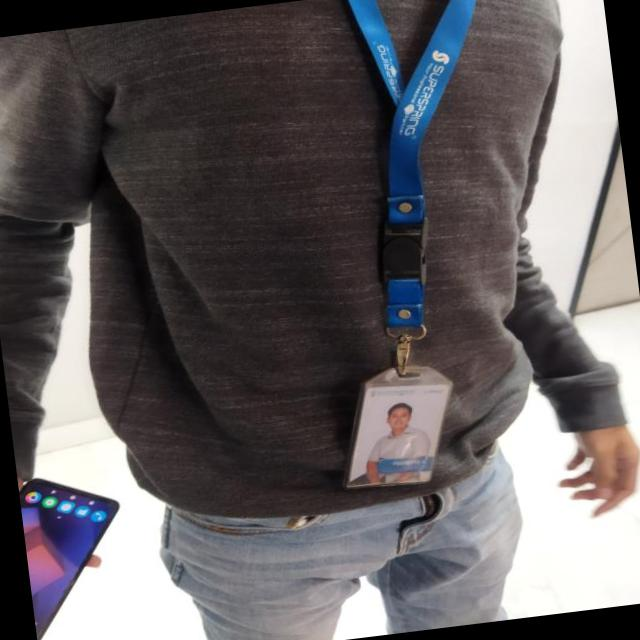id_card: (272, 0, 543, 496)
